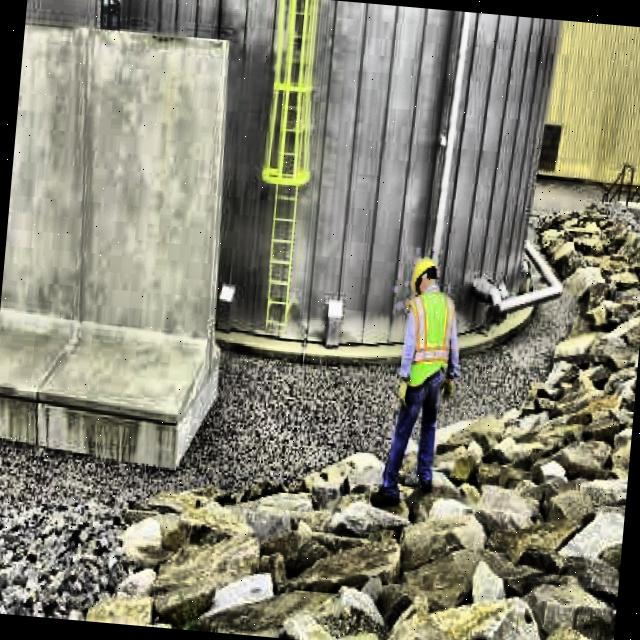helmet: (408, 254, 442, 306)
